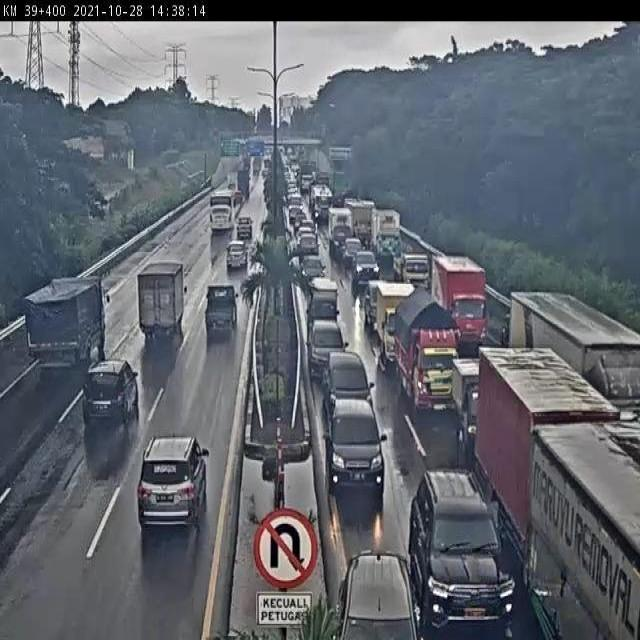big bus: (210, 181, 237, 235)
big truck: (478, 344, 601, 560), (529, 424, 640, 640), (512, 295, 640, 456), (21, 267, 107, 377), (402, 290, 469, 414), (379, 281, 432, 383), (438, 256, 496, 348), (452, 360, 499, 439)
car: (412, 465, 509, 639), (138, 432, 218, 523), (342, 541, 414, 640), (78, 350, 152, 430), (330, 398, 383, 493), (327, 347, 376, 421), (309, 318, 351, 378), (366, 279, 397, 325), (356, 249, 382, 279), (220, 240, 245, 268)
small truck: (131, 257, 188, 344), (203, 281, 242, 344), (305, 282, 347, 326), (238, 216, 258, 239)
